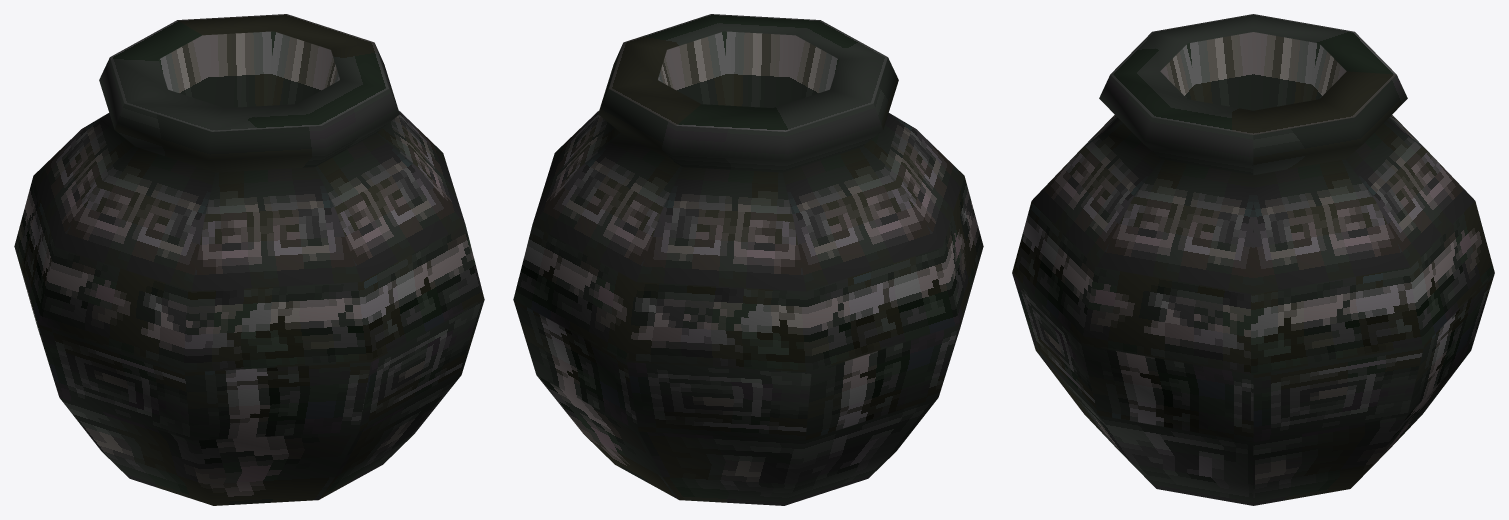
File: o_tubos_lv8.dae
3 renders of one model, left to right at view 1: azimuth 30°, elevation 25°; view 2: azimuth 150°, elevation 25°; view 3: azimuth 270°, elevation 25°, orthographic.
Parts seen in each view (by area): view 1: Shape 0; view 2: Shape 0; view 3: Shape 0.
Boxes of the visible parts, <box> form: Shape 0: <box>14,14,484,505</box>; Shape 0: <box>513,14,983,505</box>; Shape 0: <box>1012,14,1494,505</box>.
Size of the model in its own units: 66.44 by 57.17 by 66.44.
1 material, 1 textured.
